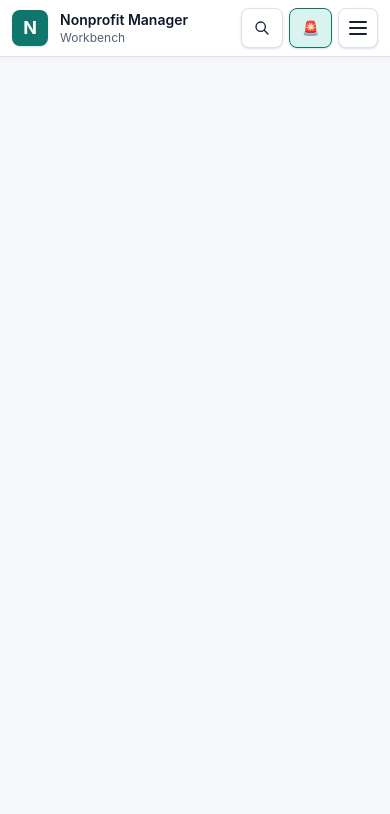
Test: Navigation › keeps search and alerts in the mobile header instead of the drawer
Expected: the button named "search" is shown, [241, 8, 283, 48]
Click the button named "main menu": (358, 28) [338, 8, 378, 48]
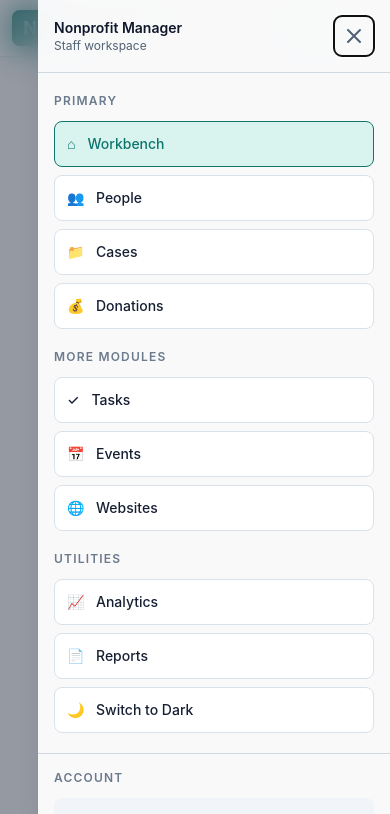
Now the text "More modules" is shown, box [54, 349, 166, 364]
